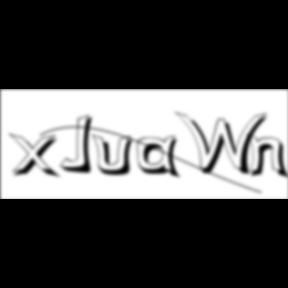J: (61, 114, 100, 176)
W: (175, 110, 273, 178)
a: (137, 135, 185, 182)
u: (92, 132, 140, 178)
x: (9, 132, 64, 181)
